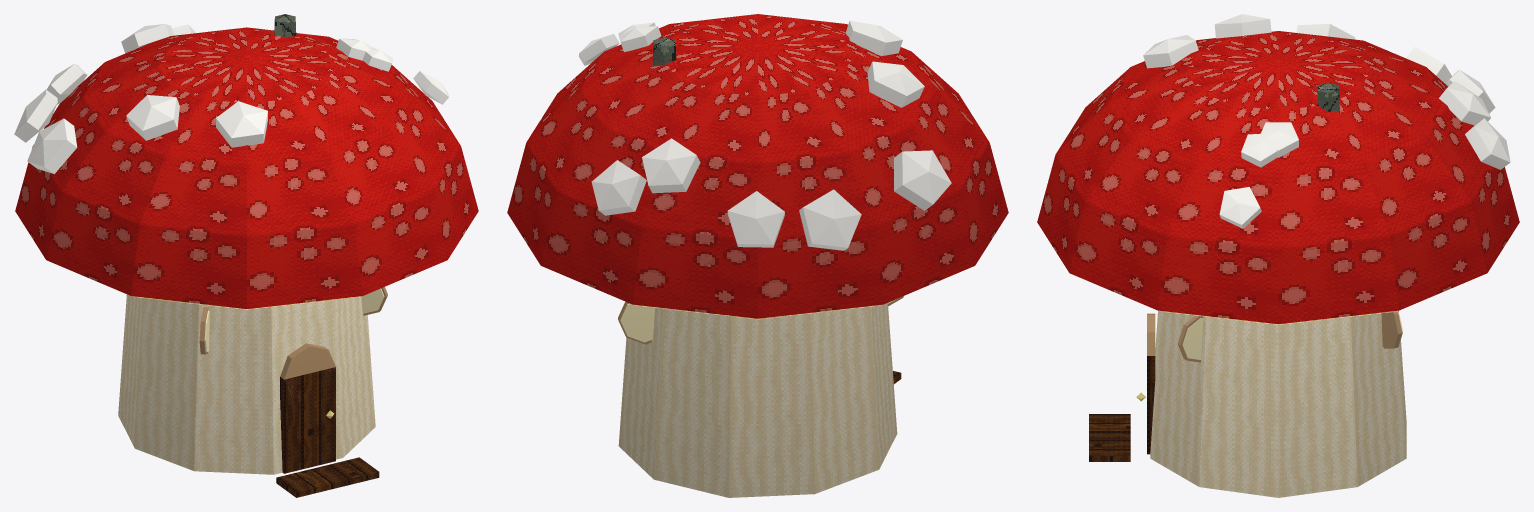
File: mushroom_house.glb
3 views of the same model, side by side, from view 1: azimuth 30°, elevation 25°; view 2: azimuth 150°, elevation 25°; view 3: azimuth 270°, elevation 25° (orthographic). The views are drawn at different scales.
Parts seen in each view (by area): view 1: mushroom_house; view 2: mushroom_house; view 3: mushroom_house.
Part boxes in pixels (box(x1,y1,x2,y2)): mushroom_house: box(14, 14, 478, 497); mushroom_house: box(507, 14, 1008, 497); mushroom_house: box(1037, 14, 1519, 497).
Bounding box in the file's own units: 5.8 × 5.1 × 5.8.
Materials: 6 (5 with a texture image).
